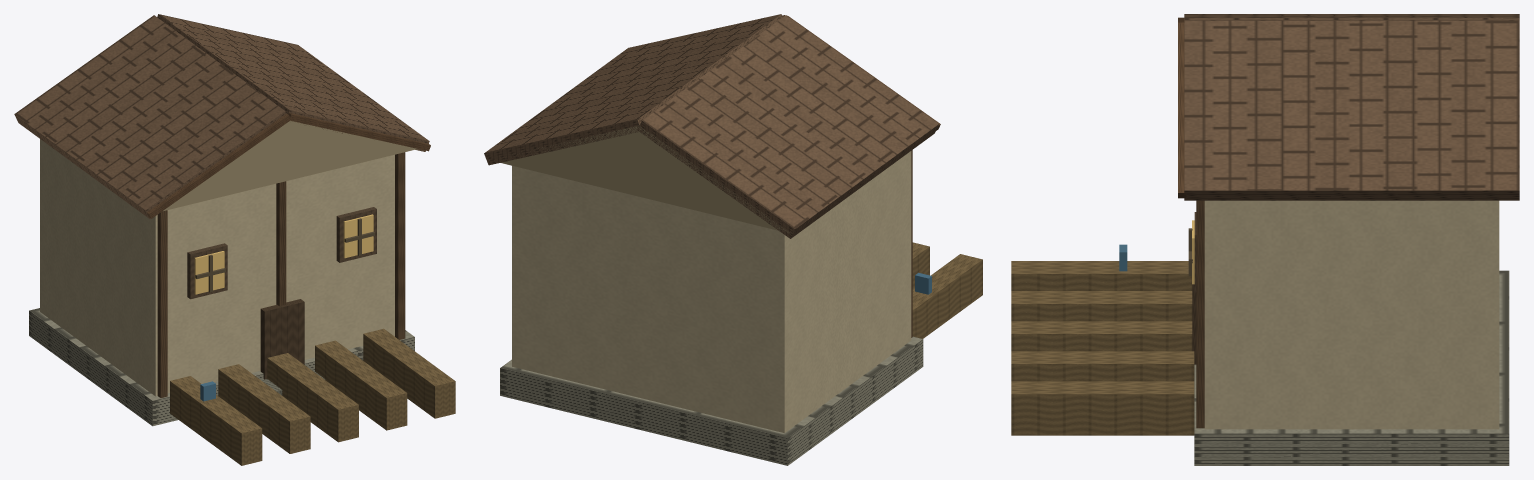
The model's file is procedural_master_workshop@6.glb.
3 renders of one model, left to right at view 1: azimuth 30°, elevation 25°; view 2: azimuth 150°, elevation 25°; view 3: azimuth 270°, elevation 25°, orthographic. The views are drawn at different scales.
Parts seen in each view (by area): view 1: part_1, part_5, part_11, part_6, part_2, part_0, part_7, part_3, part_9, part_8, part_10; view 2: part_1, part_5, part_0, part_6, part_11; view 3: part_1, part_5, part_11, part_0, part_2, part_7.
Part boxes in pixels (x1,y1,x2,y2): part_1: [40, 139, 394, 396]; part_5: [14, 14, 429, 218]; part_11: [170, 328, 455, 465]; part_6: [163, 120, 417, 210]; part_2: [157, 152, 405, 397]; part_0: [29, 308, 414, 426]; part_7: [147, 113, 430, 218]; part_3: [260, 299, 304, 379]; part_9: [194, 214, 373, 294]; part_8: [187, 207, 376, 299]; part_10: [195, 218, 374, 292]; part_1: [512, 151, 911, 432]; part_5: [484, 14, 938, 238]; part_0: [500, 336, 923, 465]; part_6: [489, 125, 791, 233]; part_11: [912, 242, 982, 338]; part_1: [1204, 200, 1499, 429]; part_5: [1184, 14, 1519, 200]; part_11: [1011, 261, 1194, 435]; part_0: [1194, 270, 1509, 465]; part_2: [1196, 200, 1204, 428]; part_7: [1178, 17, 1186, 198].
Size of the model in its own units: 4.11 by 3.96 by 5.
Materials: 13 (10 with a texture image).
